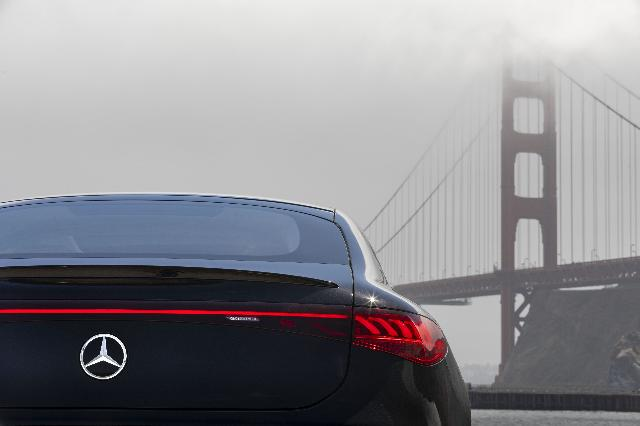benz: (0, 191, 472, 426)
